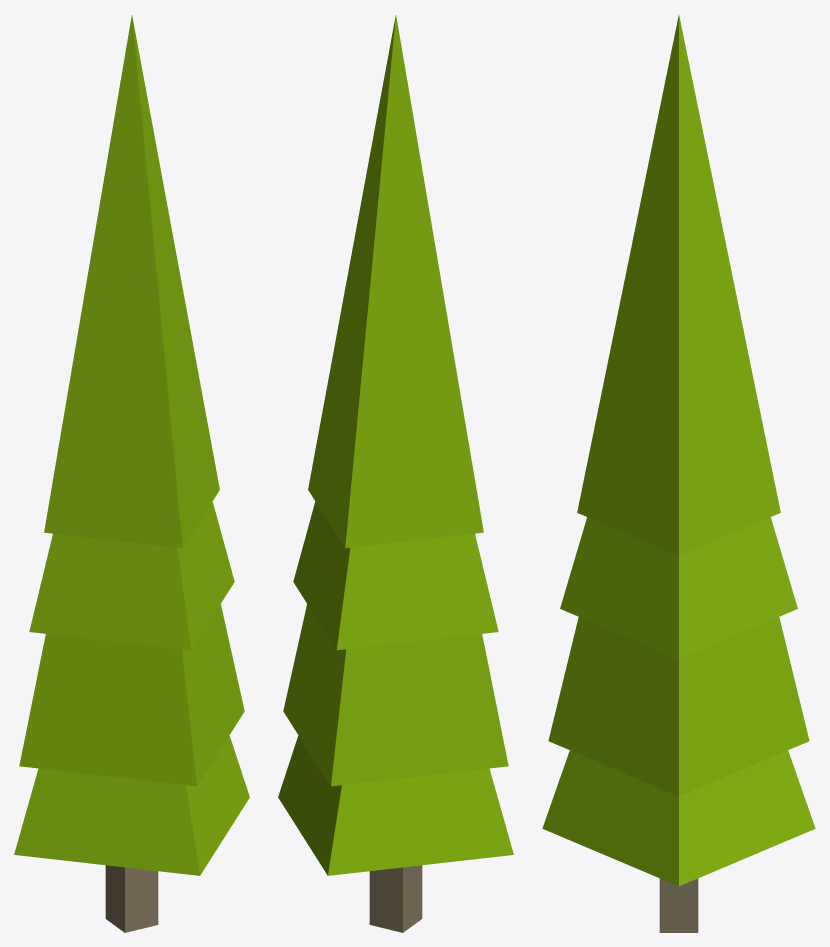
Rendered from pine_8.fbx.
3 views of the same model, side by side, from view 1: azimuth 30°, elevation 25°; view 2: azimuth 150°, elevation 25°; view 3: azimuth 270°, elevation 25° (orthographic).
Parts seen in each view (by area): view 1: pine_8; view 2: pine_8; view 3: pine_8.
Boxes of the visible parts, x1,y1,x2,y2 form: pine_8: [14, 15, 249, 932]; pine_8: [278, 15, 513, 932]; pine_8: [542, 15, 815, 932].
Size of the model in its own units: 85.76 by 315 by 85.76.
